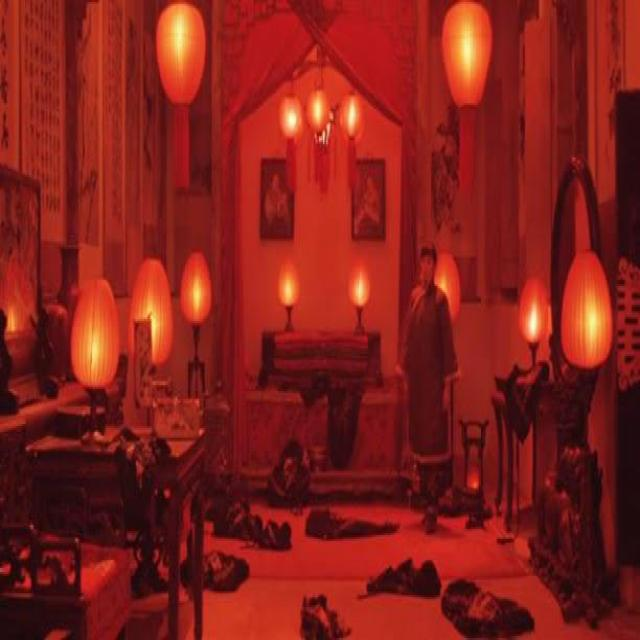other: (274, 76, 374, 164), (151, 0, 216, 106), (71, 264, 119, 382), (437, 8, 494, 106), (127, 253, 178, 359), (568, 257, 612, 359), (176, 248, 217, 319), (520, 270, 546, 351), (434, 250, 460, 318), (342, 252, 372, 308), (275, 254, 305, 308)
